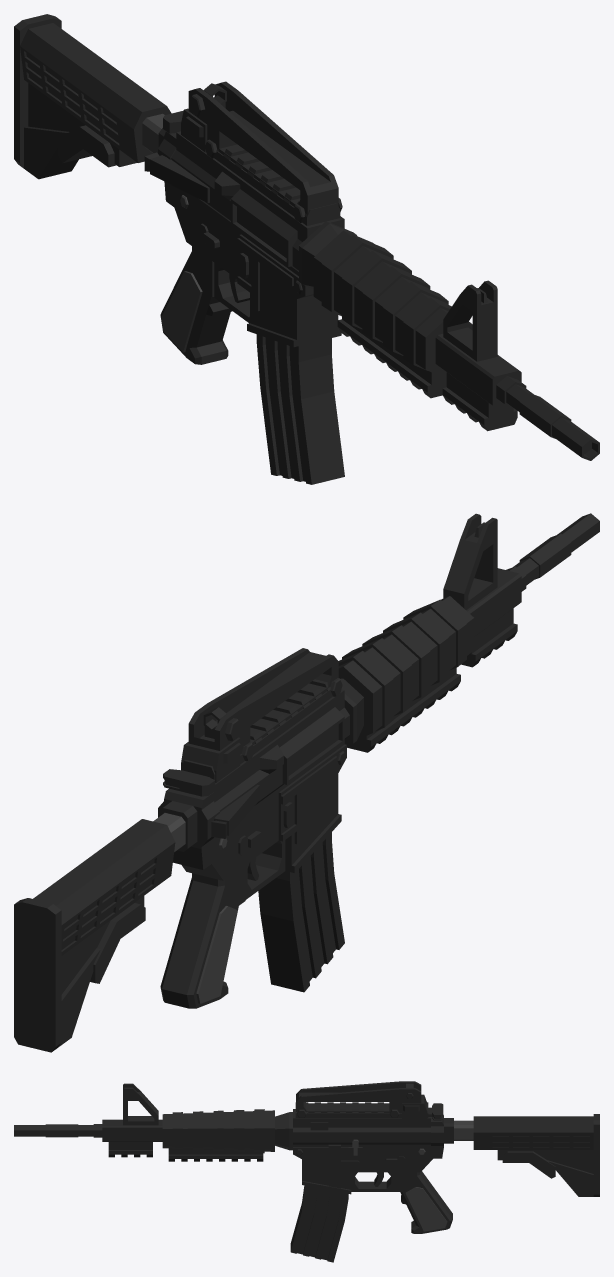
3 views of the same model, one above another, from view 1: azimuth 30°, elevation 25°; view 2: azimuth 150°, elevation 25°; view 3: azimuth 270°, elevation 25° (orthographic). The views are drawn at different scales.
Visible parts, largest first — view 1: AR_A_Stock, AR_N_BarrelGuard, AR_A_Receiver_Down, AR_A_Barrel, AR_A_Mag, AR_A_Sight, AR_A_Receiver_Up, AR_A_Grip, AR_A_Rail, AR_A_BarrelGuard_Rail; view 2: AR_A_Stock, AR_A_Receiver_Down, AR_N_BarrelGuard, AR_A_Barrel, AR_A_Mag, AR_A_Sight, AR_A_Grip, AR_A_Receiver_Up, AR_A_Rail, AR_A_BarrelGuard_Rail, AR_N_Bolt; view 3: AR_A_Stock, AR_A_Receiver_Down, AR_N_BarrelGuard, AR_A_Receiver_Up, AR_A_Barrel, AR_A_Sight, AR_A_Mag, AR_A_Grip, AR_A_BarrelGuard_Rail, AR_A_Rail.
Boxes of the visible parts, <box> form: AR_A_Stock: <box>14,14,171,179</box>; AR_N_BarrelGuard: <box>299,221,472,378</box>; AR_A_Receiver_Down: <box>142,113,341,347</box>; AR_A_Barrel: <box>435,280,599,460</box>; AR_A_Mag: <box>256,334,344,484</box>; AR_A_Sight: <box>181,81,342,222</box>; AR_A_Receiver_Up: <box>144,131,344,276</box>; AR_A_Grip: <box>160,246,232,364</box>; AR_A_Rail: <box>214,145,340,225</box>; AR_A_BarrelGuard_Rail: <box>337,319,446,398</box>; AR_A_Stock: <box>14,819,175,1052</box>; AR_A_Receiver_Down: <box>153,744,346,899</box>; AR_N_BarrelGuard: <box>338,596,474,745</box>; AR_A_Barrel: <box>443,513,599,667</box>; AR_A_Mag: <box>258,832,344,992</box>; AR_A_Sight: <box>181,648,342,782</box>; AR_A_Grip: <box>160,865,245,1008</box>; AR_A_Receiver_Up: <box>211,689,349,839</box>; AR_A_Rail: <box>181,679,332,779</box>; AR_A_BarrelGuard_Rail: <box>347,667,460,752</box>; AR_N_Bolt: <box>163,769,215,796</box>; AR_A_Stock: <box>473,1114,599,1196</box>; AR_A_Receiver_Down: <box>293,1115,473,1194</box>; AR_N_BarrelGuard: <box>162,1109,292,1153</box>; AR_A_Receiver_Up: <box>293,1109,430,1146</box>; AR_A_Barrel: <box>14,1083,162,1157</box>; AR_A_Sight: <box>296,1081,427,1118</box>; AR_A_Mag: <box>290,1185,348,1262</box>; AR_A_Grip: <box>395,1171,452,1233</box>; AR_A_BarrelGuard_Rail: <box>168,1147,263,1161</box>; AR_A_Rail: <box>295,1102,428,1117</box>.
Bounding box in the file's own units: 0.0866 × 0.3817 × 1.16.
